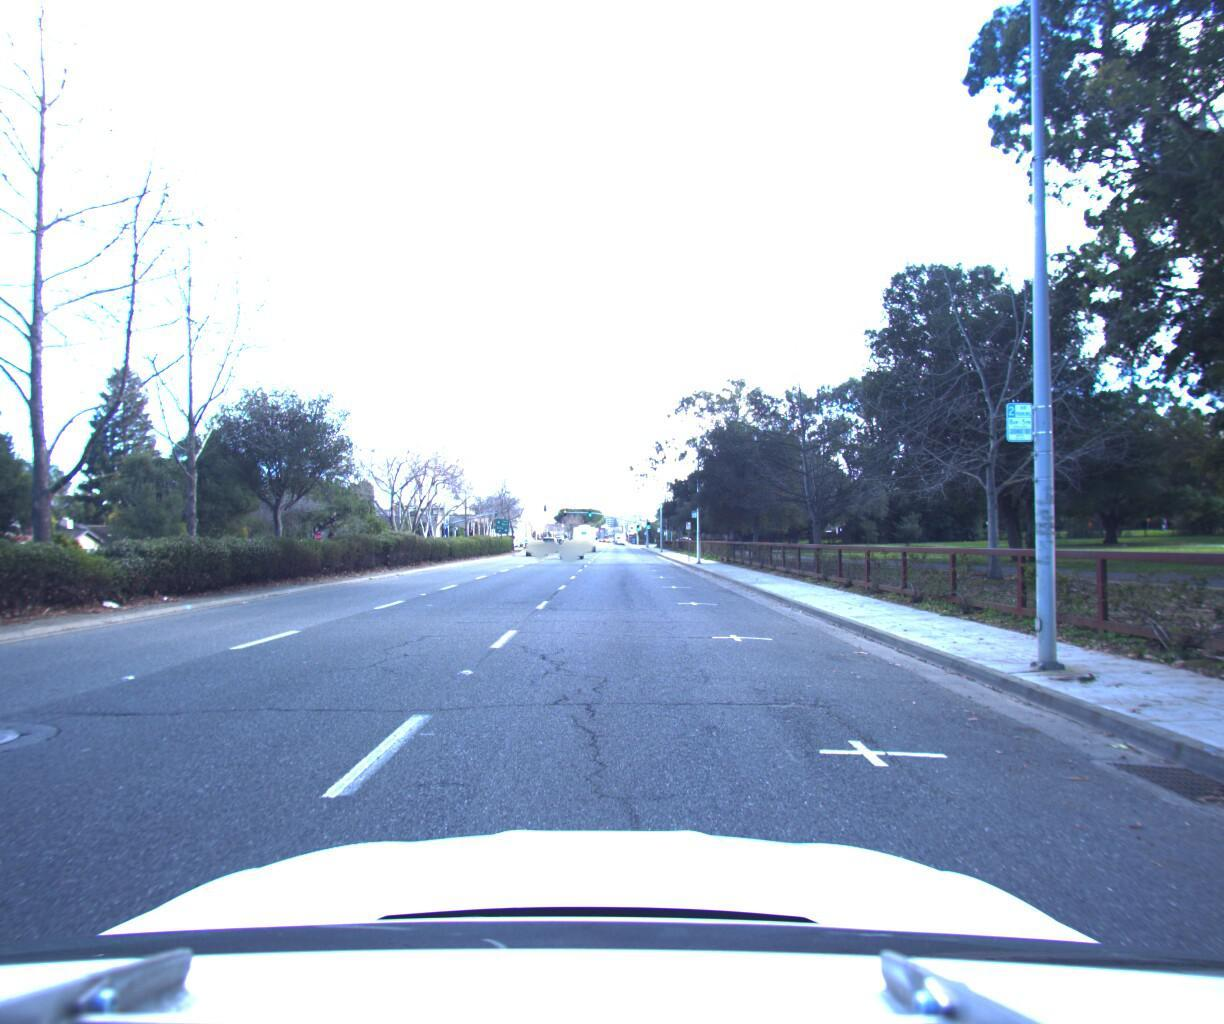car: (557, 530, 585, 552), (525, 530, 550, 547)
